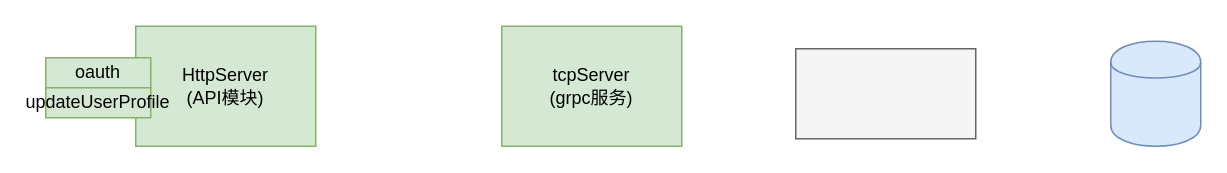
The diagram is 1227 pixels wide and 173 high, and some of its shapes have lost their labels. The box of each missing label's shape, as (x1, y1, x2, y2) in pixels:
mysql: (1109, 40, 1201, 146)
数据库访问模块(model): (794, 47, 976, 139)
